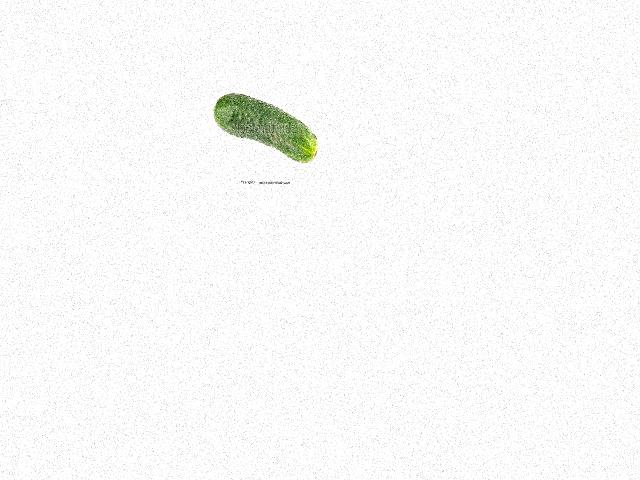cucumber: (212, 93, 317, 163)
